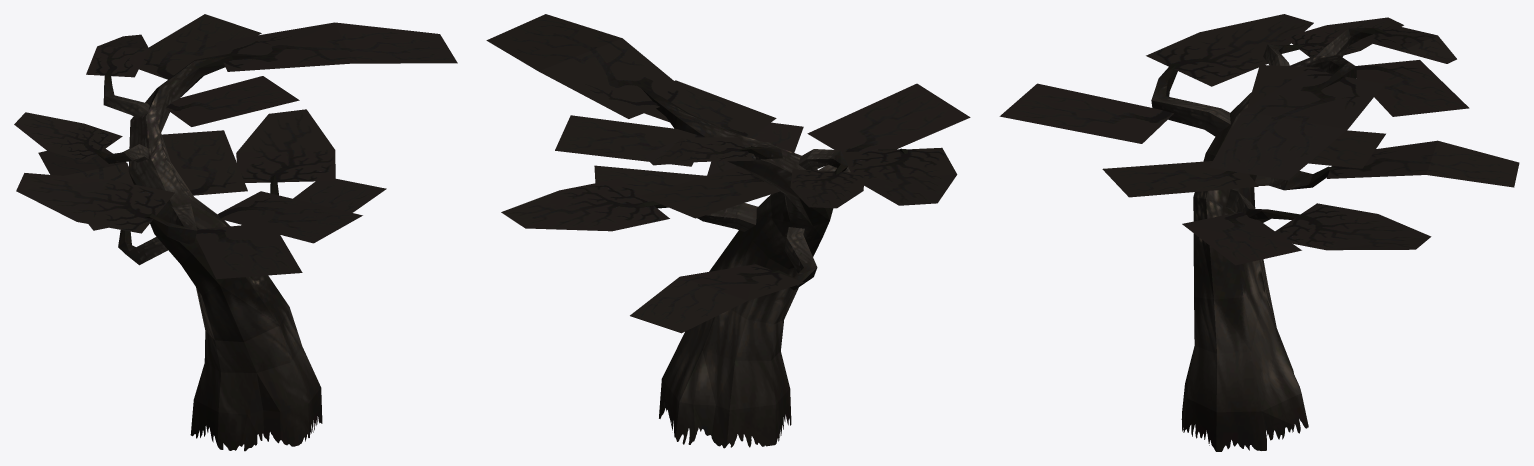
File: cherrytree_burnt_03.fbx
3 views of the same model, side by side, from view 1: azimuth 30°, elevation 25°; view 2: azimuth 150°, elevation 25°; view 3: azimuth 270°, elevation 25° (orthographic). The views are drawn at different scales.
Parts seen in each view (by area): view 1: obj1.102; view 2: obj1.102; view 3: obj1.102.
Boxes of the visible parts, x1,y1,x2,y2 form: obj1.102: [14, 14, 457, 451]; obj1.102: [486, 14, 970, 448]; obj1.102: [999, 14, 1519, 451].
Size of the model in its own units: 9.3 by 7.12 by 9.22.
